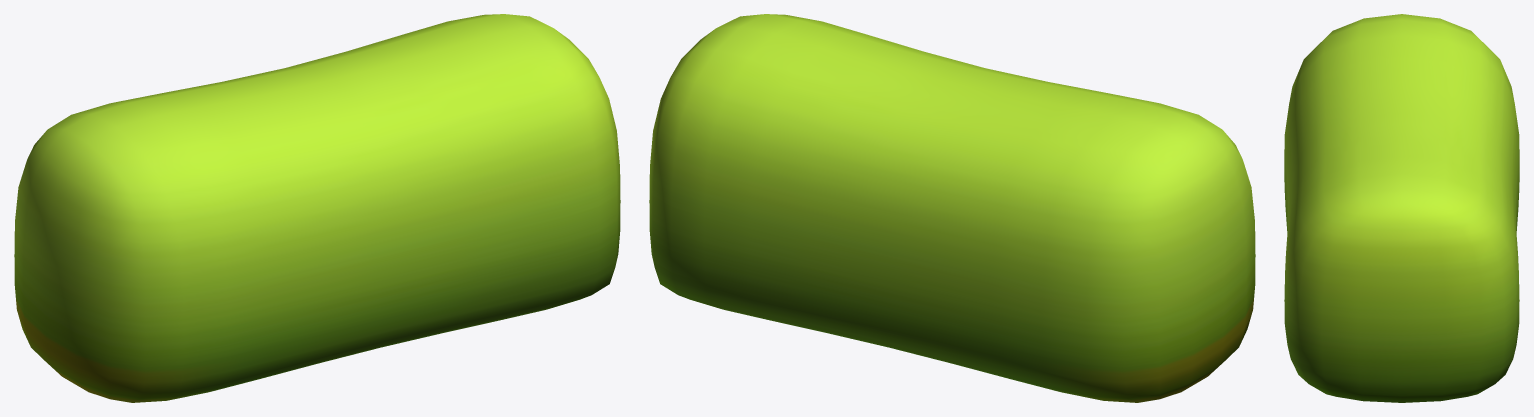
Rendered from bush-long.glb.
3 renders of one model, left to right at view 1: azimuth 30°, elevation 25°; view 2: azimuth 150°, elevation 25°; view 3: azimuth 270°, elevation 25°, orthographic. The views are drawn at different scales.
Visible parts, largest first — view 1: long_bush; view 2: long_bush; view 3: long_bush.
Part boxes in pixels (x1,y1,x2,y2): long_bush: (14,14,620,402); long_bush: (649,14,1255,402); long_bush: (1284,14,1519,402).
Bounding box in the file's own units: 4.79 × 2.1 × 2.17.
Materials: 1 (1 with a texture image).
